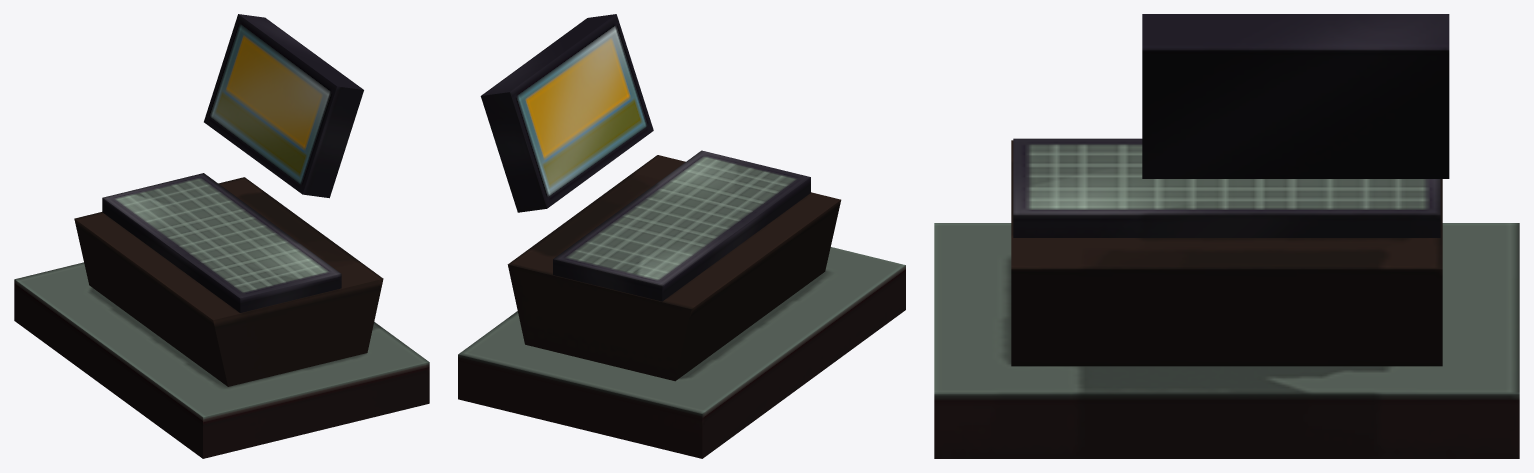
Rendered from Tx_props_cashier_11.fbx.
3 renders of one model, left to right at view 1: azimuth 30°, elevation 25°; view 2: azimuth 150°, elevation 25°; view 3: azimuth 270°, elevation 25°, orthographic. The views are drawn at different scales.
Parts seen in each view (by area): view 1: Tx_props_cashier; view 2: Tx_props_cashier; view 3: Tx_props_cashier.
Boxes of the visible parts, x1,y1,x2,y2 form: Tx_props_cashier: (14,14,429,458); Tx_props_cashier: (458,14,905,458); Tx_props_cashier: (934,14,1519,458).
Bounding box in the file's own units: 2.68 × 3.08 × 3.84.
